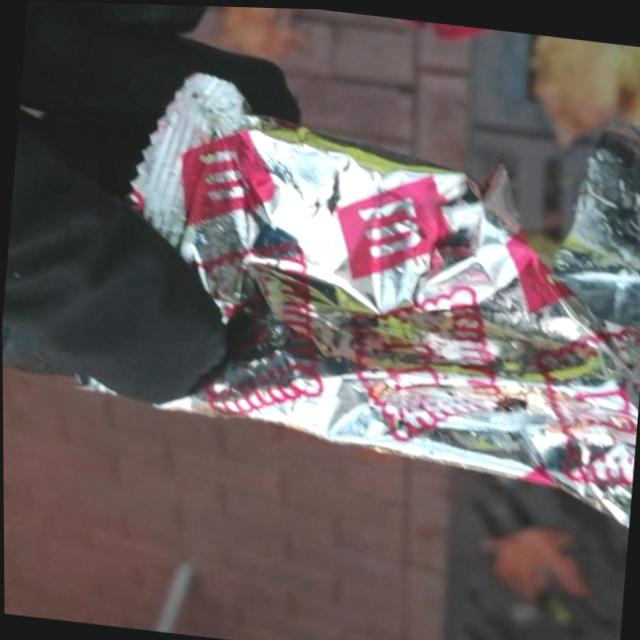Plastic: (58, 52, 640, 544)
